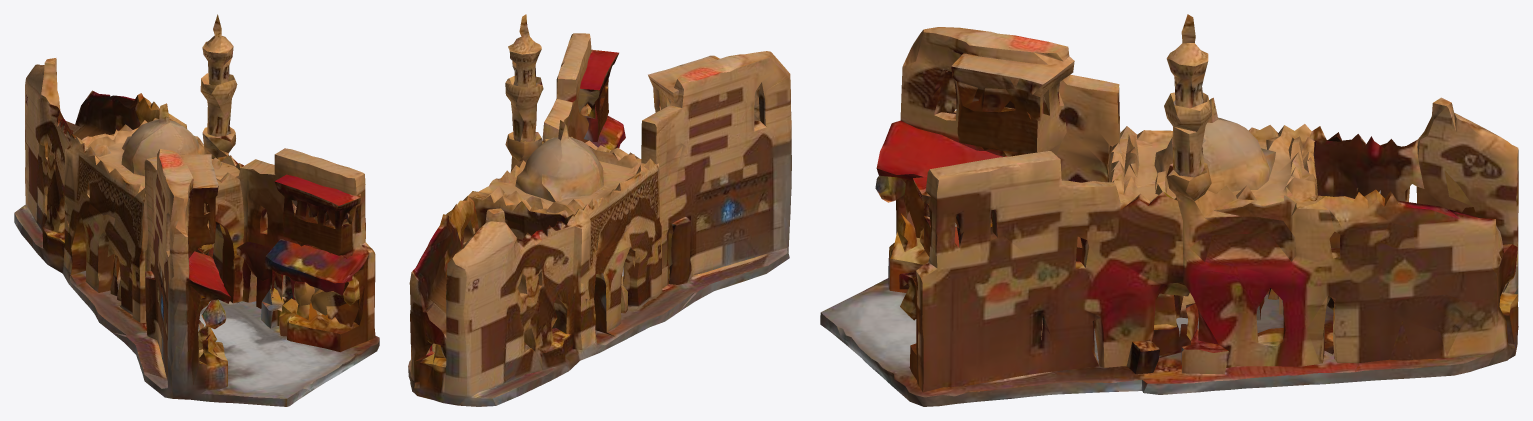
Rendered from khan-el-khalili.glb.
3 renders of one model, left to right at view 1: azimuth 30°, elevation 25°; view 2: azimuth 150°, elevation 25°; view 3: azimuth 270°, elevation 25°, orthographic. The views are drawn at different scales.
Parts seen in each view (by area): view 1: logan-textured.obj; view 2: logan-textured.obj; view 3: logan-textured.obj.
Boxes of the visible parts, <box> form: logan-textured.obj: <box>14,14,379,406</box>; logan-textured.obj: <box>408,14,791,406</box>; logan-textured.obj: <box>820,14,1518,406</box>.
Bounding box in the file's own units: 0.4648 × 0.5607 × 1.
Materials: 1 (1 with a texture image).
